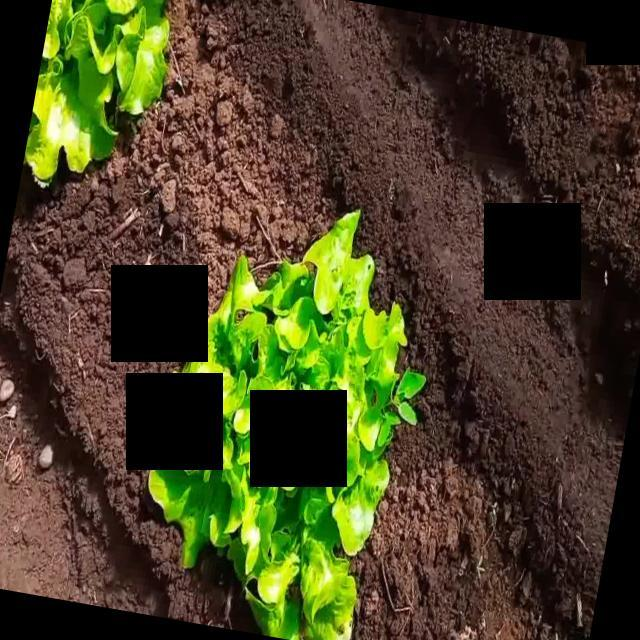Lettuce: (141, 206, 417, 640), (23, 0, 170, 194)
